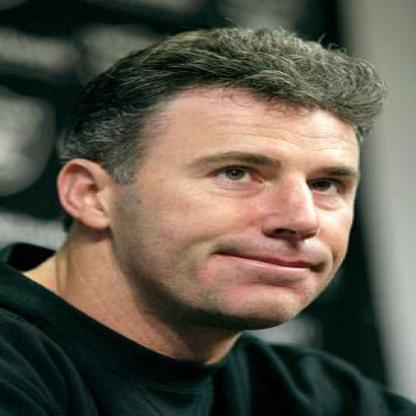face: (108, 42, 390, 332)
